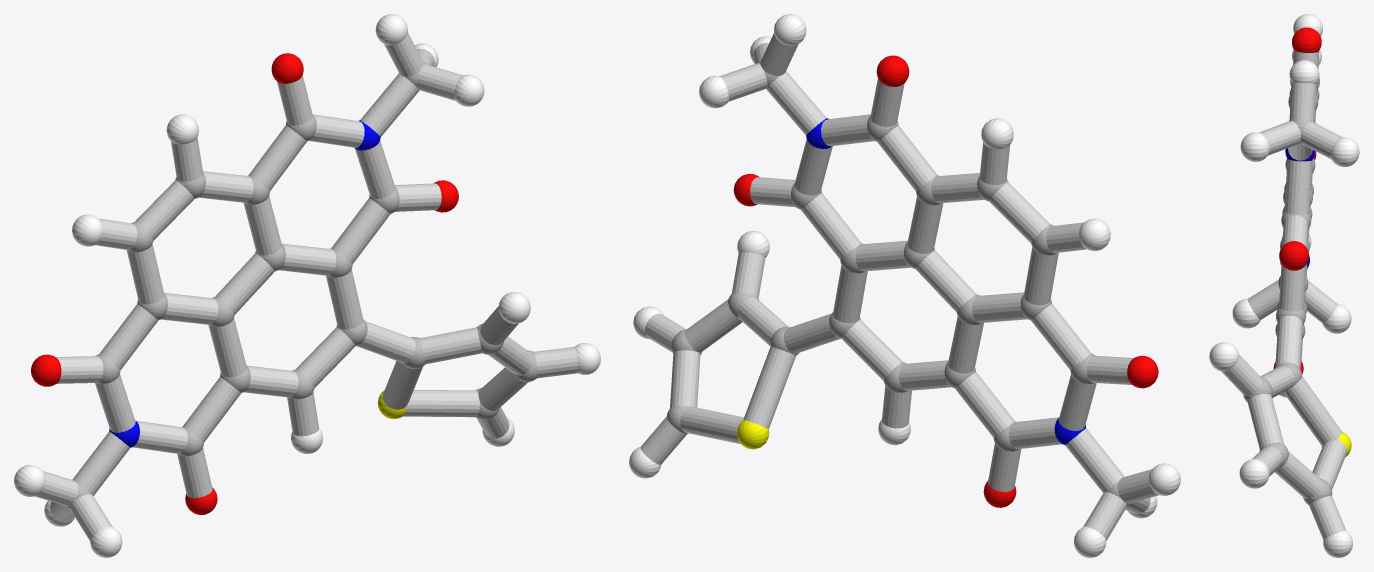
The model's file is Dimethyl_Naphthalene_Dicarboximide_Phi_5_Theta_40_Thiophene.glb.
3 renders of one model, left to right at view 1: azimuth 30°, elevation 25°; view 2: azimuth 150°, elevation 25°; view 3: azimuth 270°, elevation 25°, orthographic. The views are drawn at different scales.
Visible parts, largest first — view 1: grp14119, grp7241, grp1, grp12309, grp11585; view 2: grp14119, grp7241, grp1, grp12309, grp13757, grp11585; view 3: grp14119, grp7241, grp1, grp12309.
Part boxes in pixels (x1,y1,x2,y2): grp14119: (35, 32, 578, 540); grp7241: (14, 14, 600, 557); grp1: (65, 61, 537, 509); grp12309: (31, 53, 458, 514); grp11585: (109, 120, 380, 447); grp14119: (640, 33, 1158, 540); grp7241: (629, 14, 1180, 557); grp1: (666, 59, 1131, 506); grp12309: (733, 55, 1158, 507); grp13757: (737, 420, 769, 449); grp11585: (806, 118, 1085, 444); grp14119: (1221, 50, 1346, 539); grp7241: (1209, 14, 1359, 557); grp1: (1243, 77, 1332, 504); grp12309: (1273, 27, 1321, 374).
Bounding box in the file's own units: 12 × 9.7 × 3.01.
